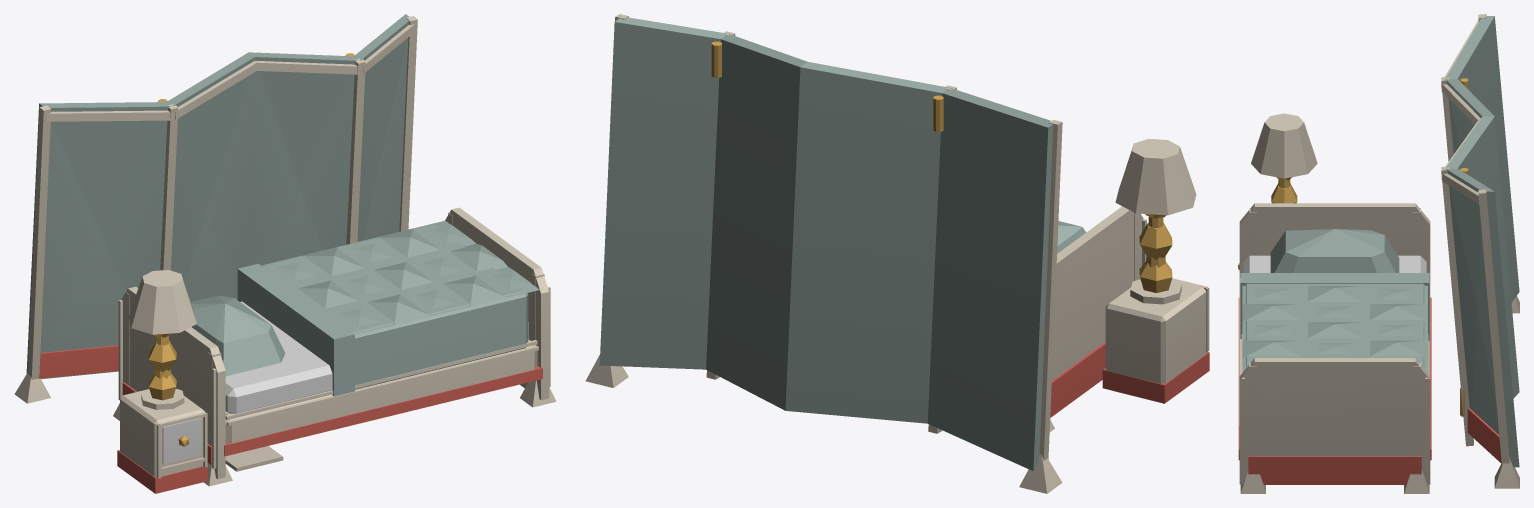
File: ward-bed.glb
The picture shows the model from 3 angles, left to right: view 1: azimuth 30°, elevation 25°; view 2: azimuth 150°, elevation 25°; view 3: azimuth 270°, elevation 25°; orthographic projection. The views are drawn at different scales.
Visible parts, largest first — view 1: lid_mesh, gate1_mesh, gate0_mesh, gate2_mesh, root_mesh; view 2: gate1_mesh, gate0_mesh, gate2_mesh, root_mesh, lid_mesh; view 3: lid_mesh, gate2_mesh, gate1_mesh, gate0_mesh, root_mesh.
Boxes of the visible parts, bbox=[...] form: lid_mesh: bbox=[113, 207, 556, 486]; gate1_mesh: bbox=[158, 52, 360, 301]; gate0_mesh: bbox=[14, 102, 173, 403]; gate2_mesh: bbox=[345, 14, 417, 244]; root_mesh: bbox=[117, 270, 207, 493]; gate1_mesh: bbox=[706, 34, 956, 433]; gate0_mesh: bbox=[927, 88, 1062, 493]; gate2_mesh: bbox=[585, 14, 735, 387]; root_mesh: bbox=[1102, 139, 1209, 403]; lid_mesh: bbox=[1049, 206, 1146, 432]; lid_mesh: bbox=[1238, 203, 1431, 493]; gate2_mesh: bbox=[1441, 166, 1519, 488]; gate1_mesh: bbox=[1441, 77, 1519, 398]; gate0_mesh: bbox=[1445, 14, 1519, 313]; root_mesh: bbox=[1238, 113, 1317, 270].
Bounding box in the file's own units: 3.4 × 2.41 × 2.1.
